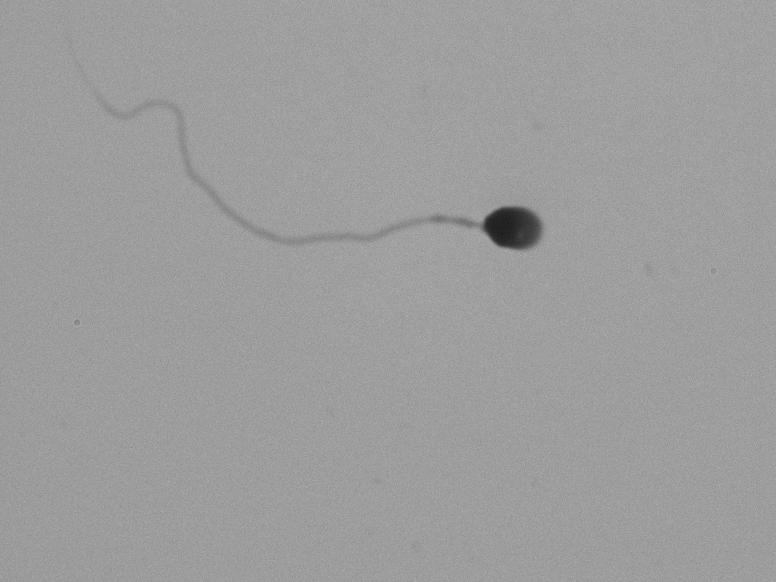Normal: (99, 66, 614, 300)
